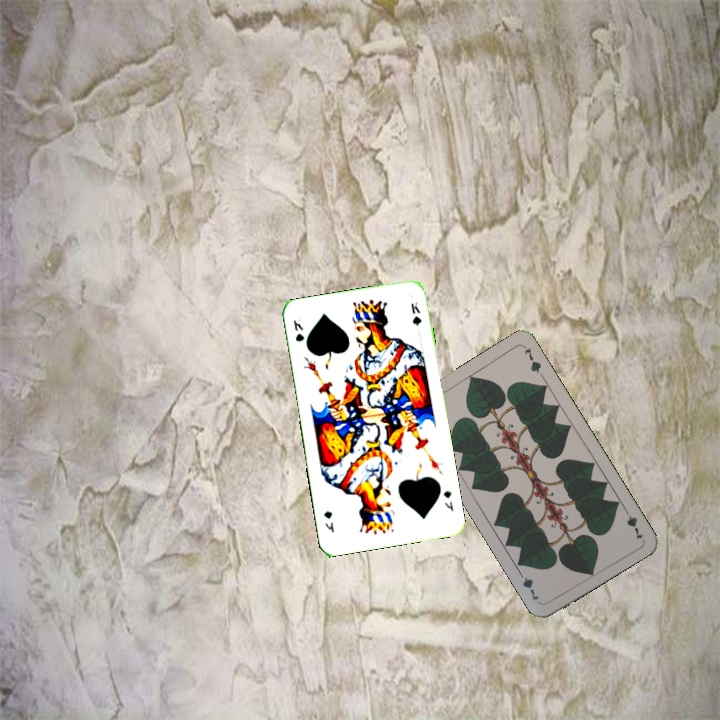G7: (620, 504, 647, 542)
GK: (289, 315, 307, 344), (439, 487, 456, 514)
